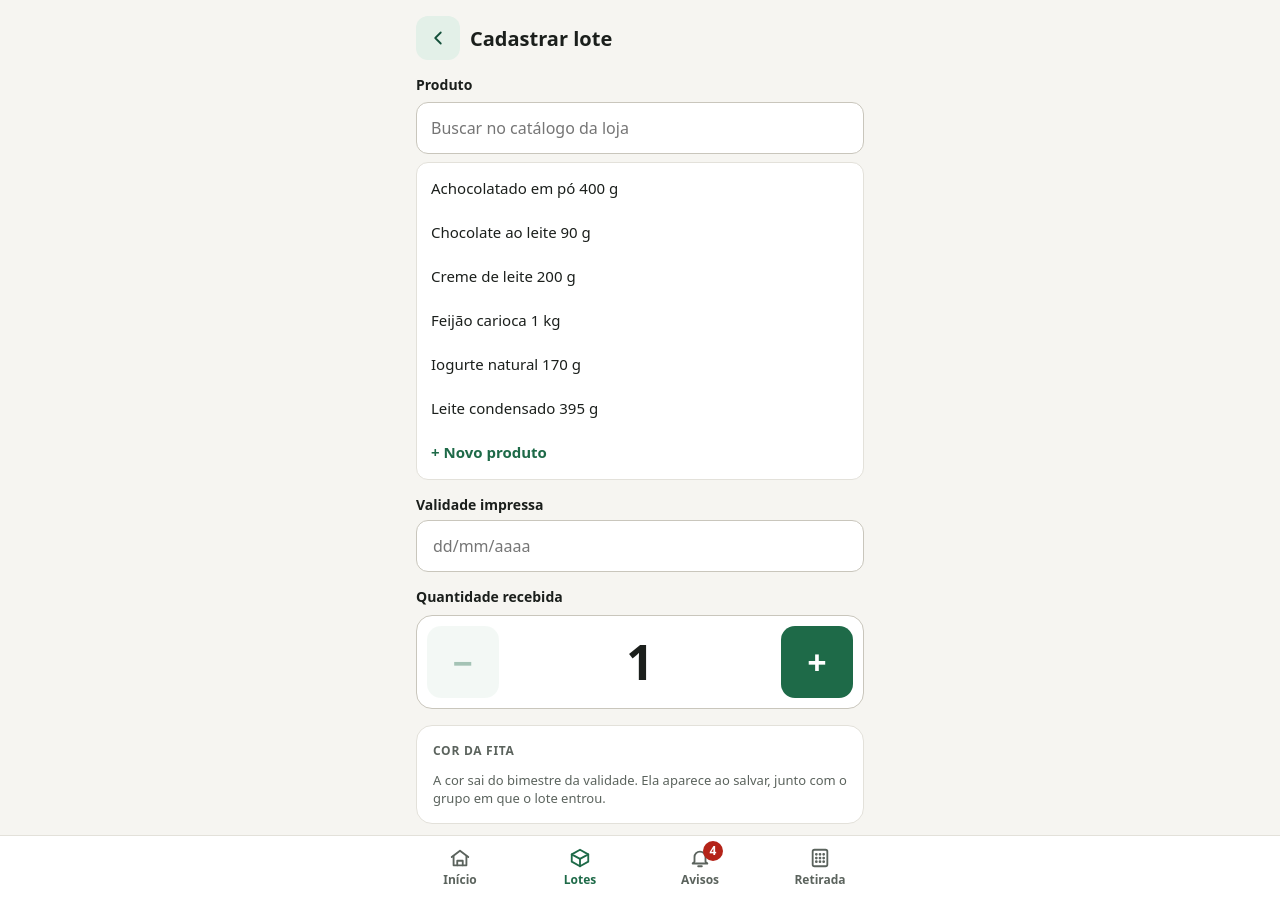
Test: L3 · Cadastro do lote — os 3 resultados vêm da API › novo: primeiro grupo da cor para o produto
The width and height of the screenshot is (1280, 900).
Type "milho" into the search field named "Buscar produto no catálogo" at coordinates (640, 128), box [416,102,864,154]
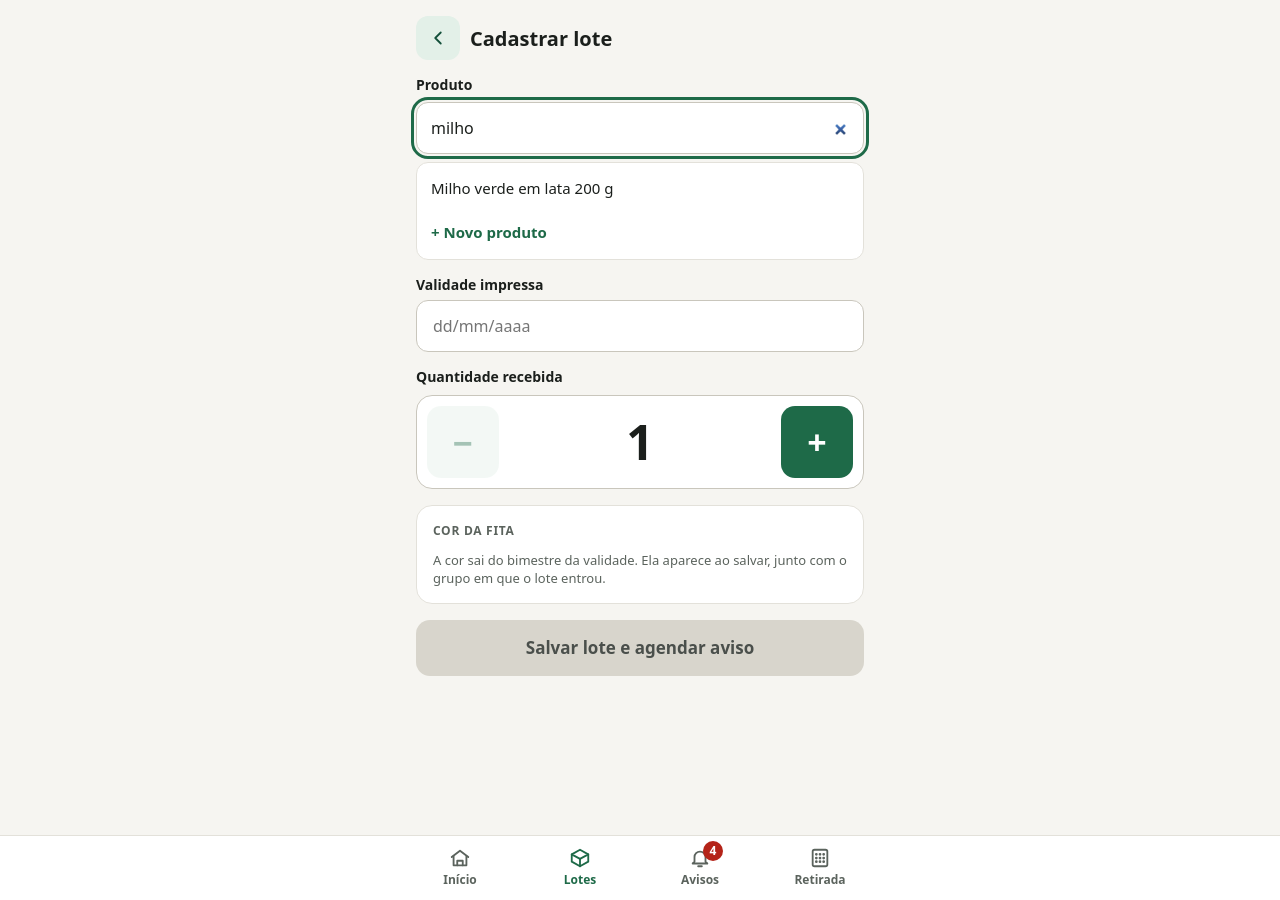
Click the button "Milho verde em lata 200 g" at coordinates (522, 188), box [421,167,859,211]
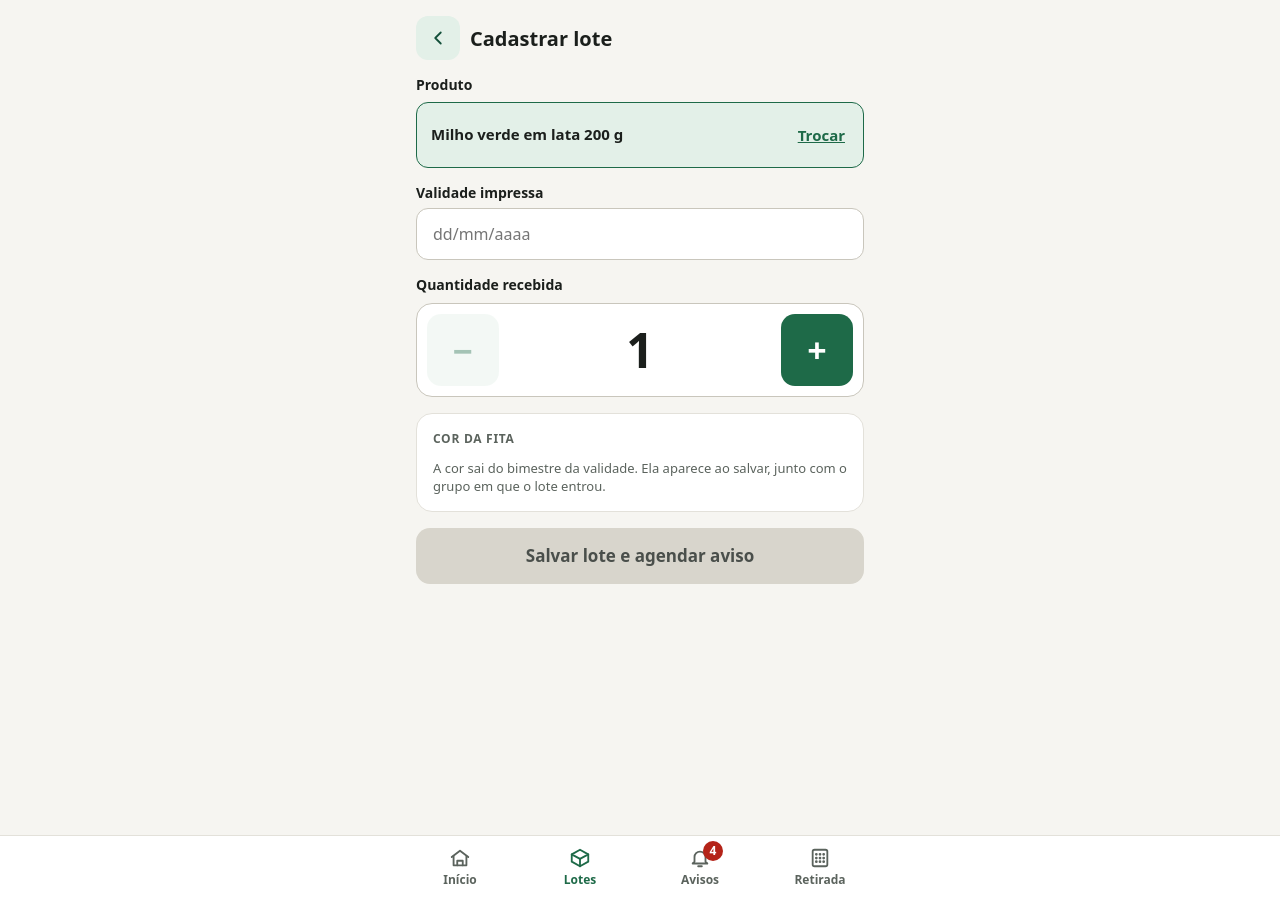
Click the button named "Aumentar" at coordinates (817, 350), box [781,314,853,386]
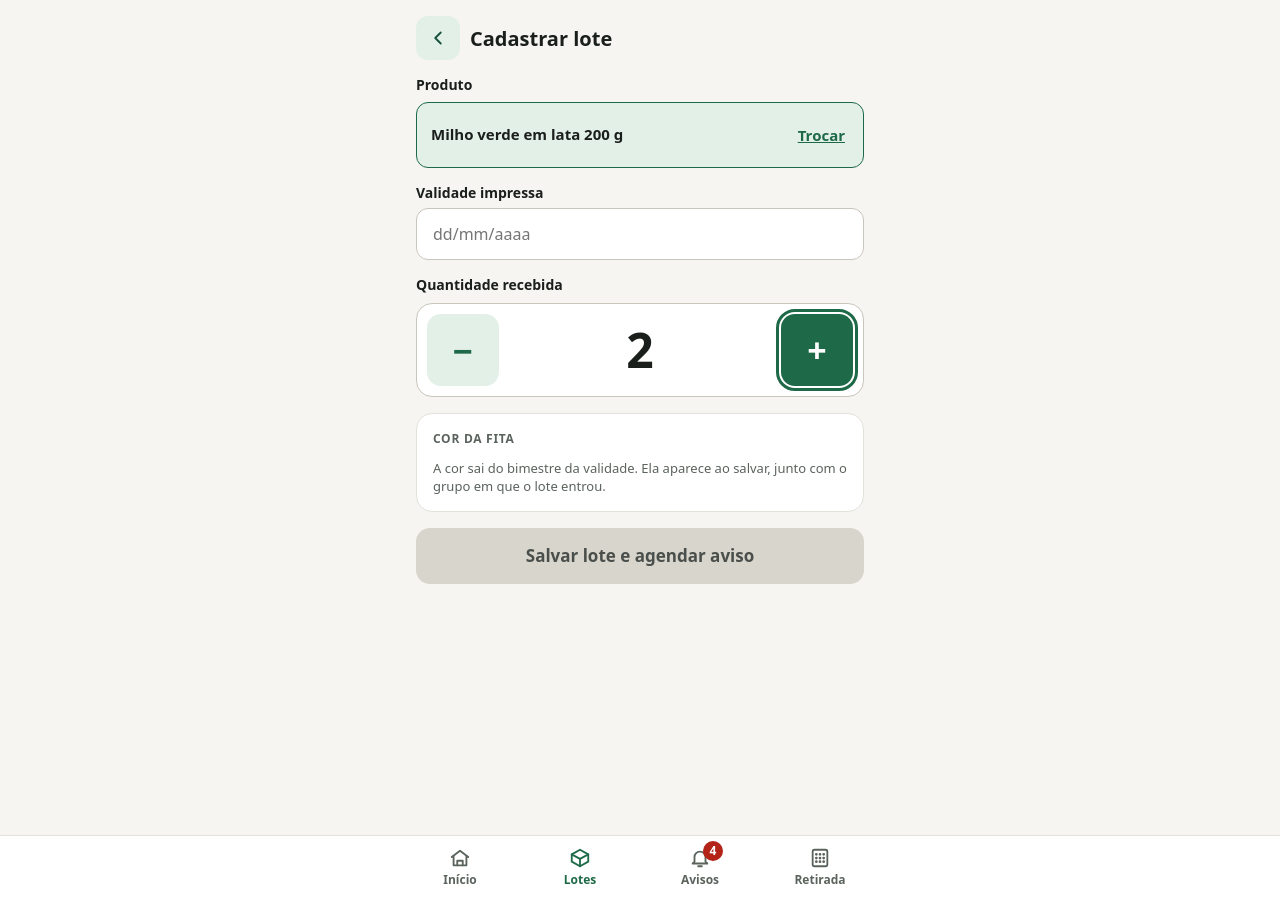
Type "18122026" into the field labelled "Validade impressa" at coordinates (644, 234), box [431,209,857,259]
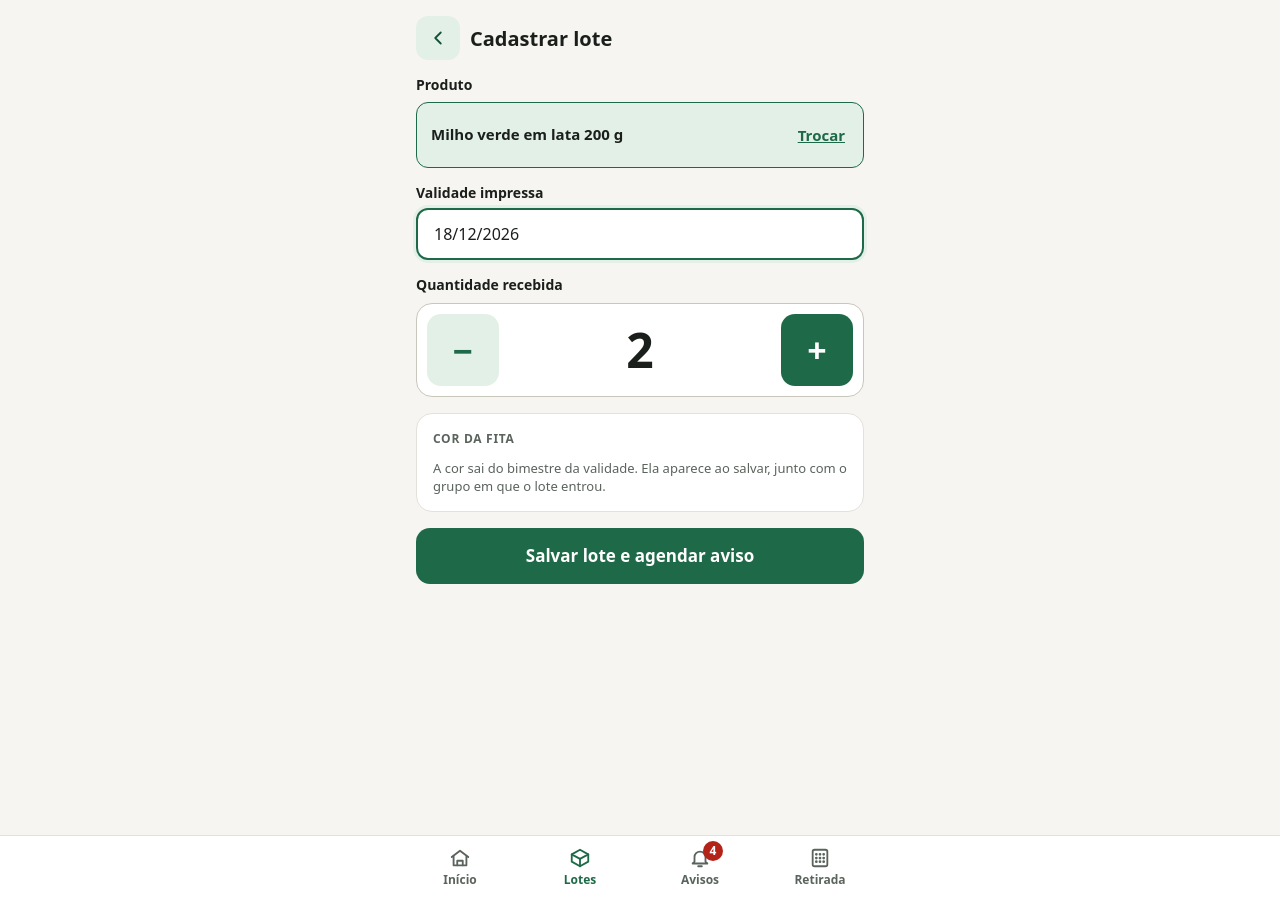
Click the button "Salvar lote e agendar aviso" at coordinates (640, 556), box [416,528,864,584]
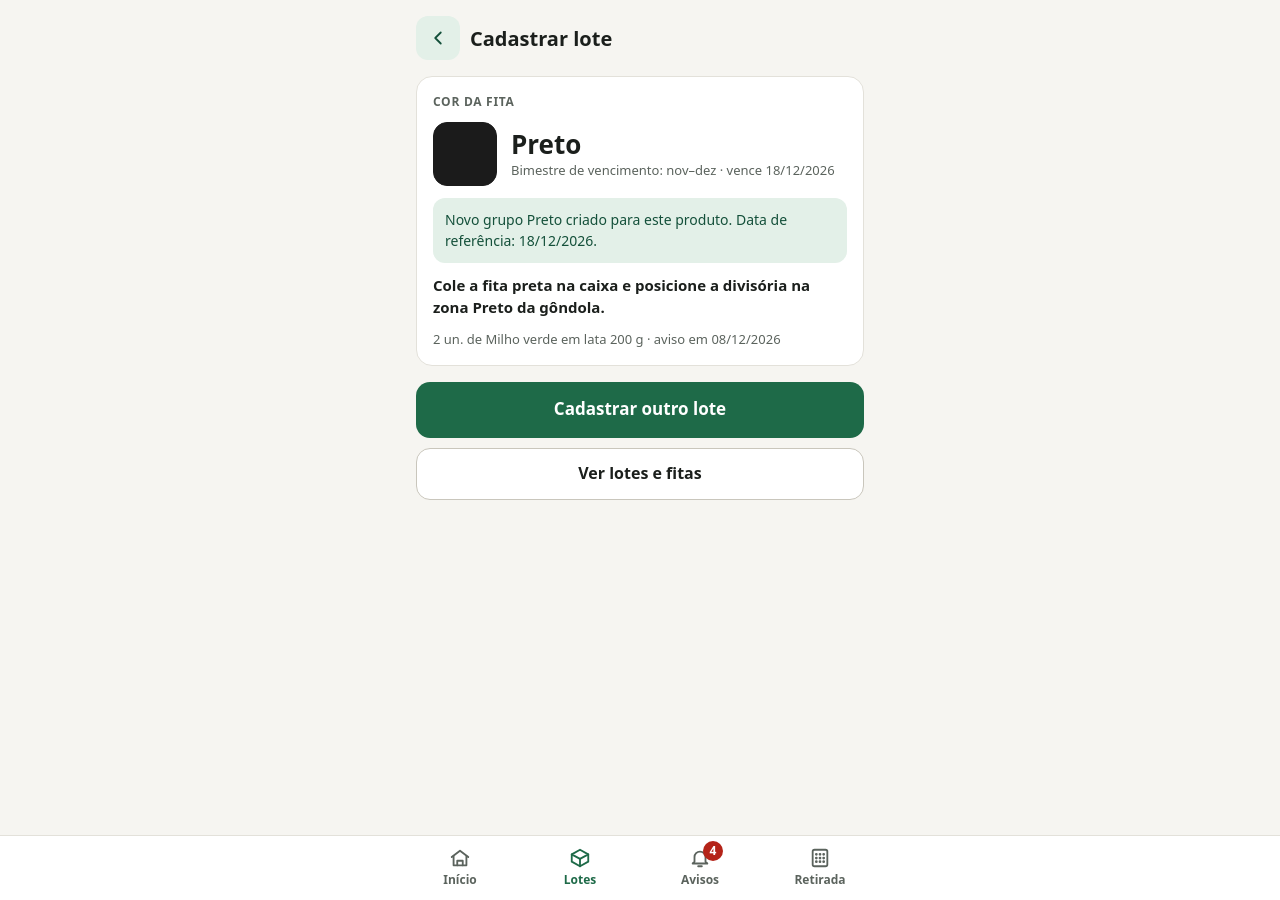
Now the text "Novo grupo Preto criado para este produto. Data de referência: 18/12/2026." is shown, box [433,198,847,263]
Now the text "2 un. de Milho verde em lata 200 g · aviso em 08/12/2026" is shown, box [433,330,781,348]
